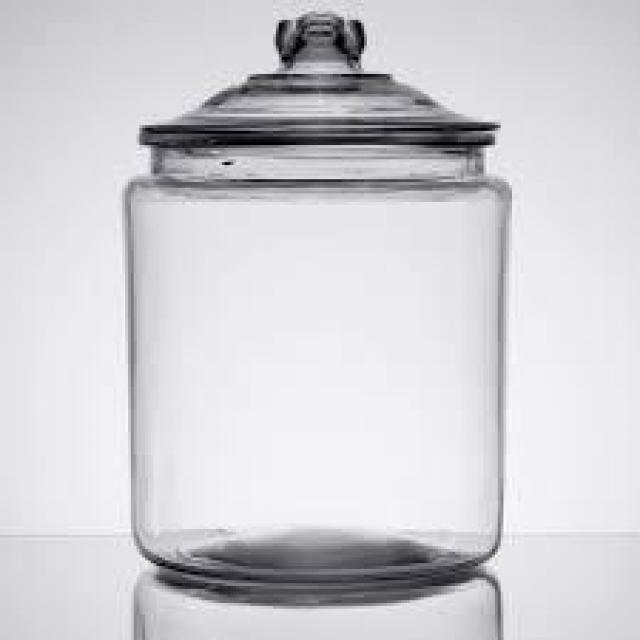non-organic waste: (125, 10, 512, 584)
